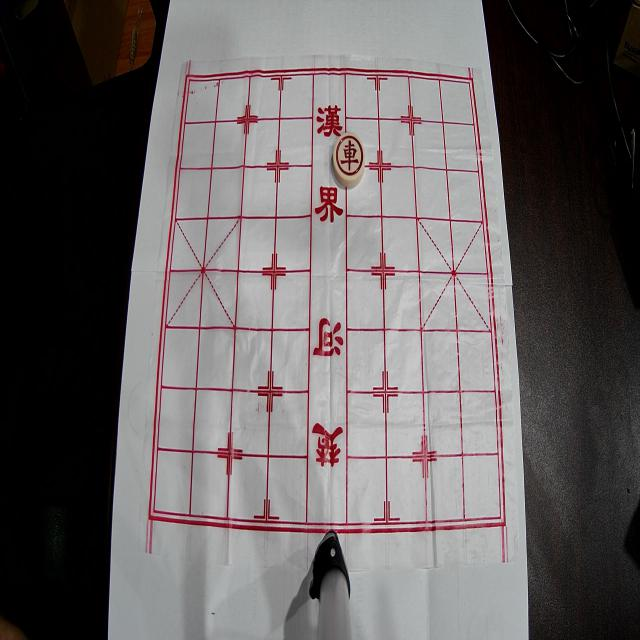red-chariot: (333, 132, 365, 188)
